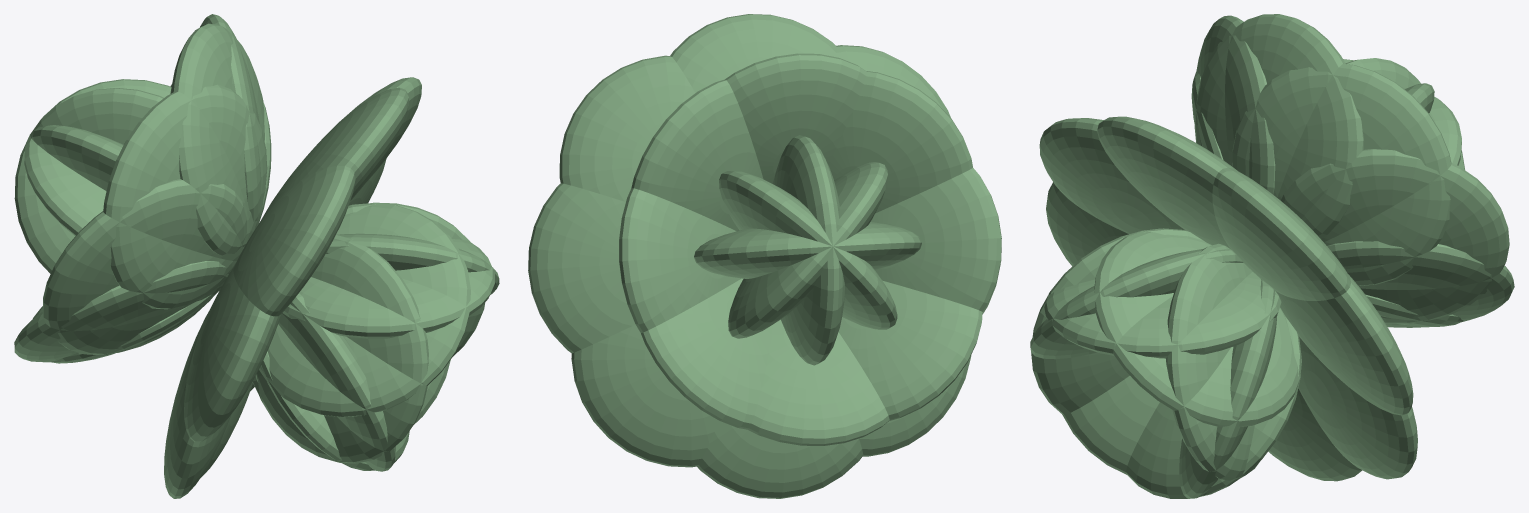
Rendered from figure-4.gltf.
3 renders of one model, left to right at view 1: azimuth 30°, elevation 25°; view 2: azimuth 150°, elevation 25°; view 3: azimuth 270°, elevation 25°, orthographic. The views are drawn at different scales.
Parts seen in each view (by area): view 1: Sphere.017; view 2: Sphere.017; view 3: Sphere.017.
Part boxes in pixels (<box>): Sphere.017: <box>14,14,499,498</box>; Sphere.017: <box>528,14,1001,498</box>; Sphere.017: <box>1030,14,1514,498</box>.
Bounding box in the file's own units: 4.94 × 5.13 × 4.98.
